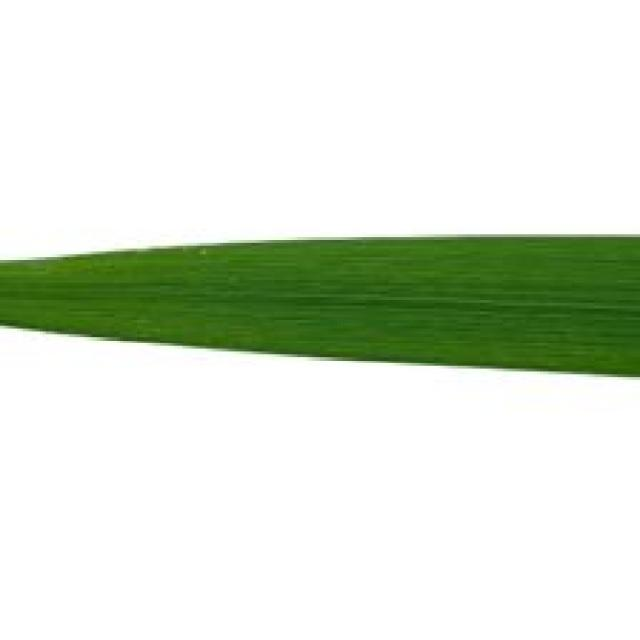Rice___Healthy_Rice_Plant: (3, 236, 637, 378)
